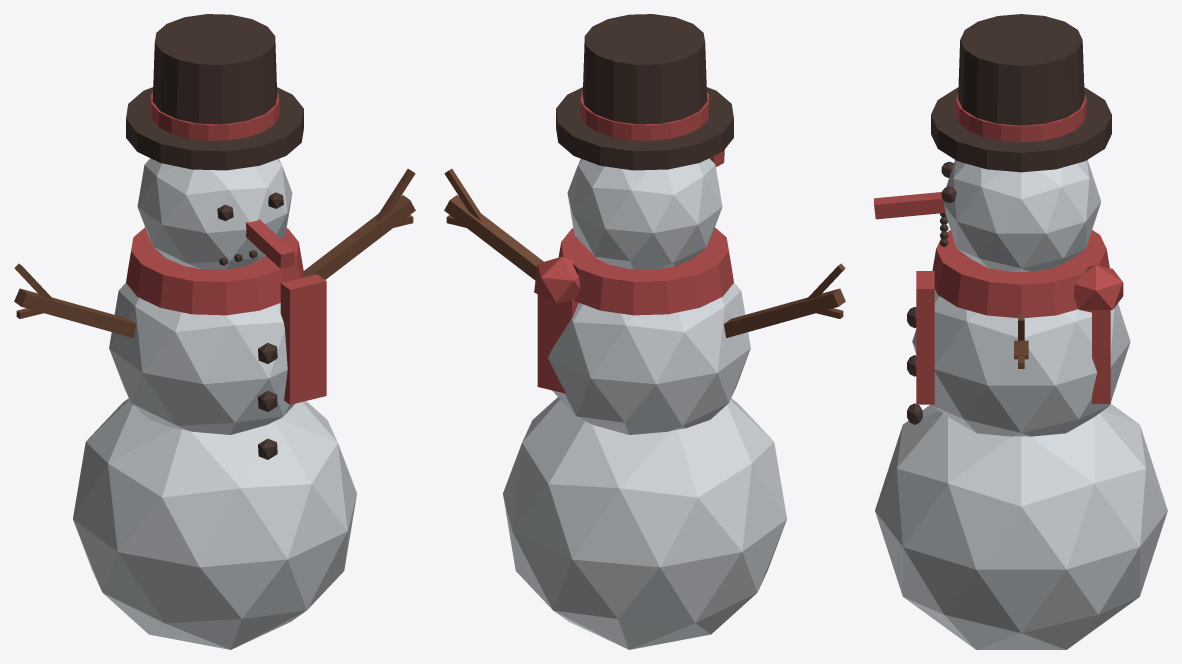
The model's file is Frosty_BigSnowman_Showcase.glb.
3 renders of one model, left to right at view 1: azimuth 30°, elevation 25°; view 2: azimuth 150°, elevation 25°; view 3: azimuth 270°, elevation 25°, orthographic.
Visible parts, largest first — view 1: Frosty_BigSnowman_Showcase; view 2: Frosty_BigSnowman_Showcase; view 3: Frosty_BigSnowman_Showcase.
Boxes of the visible parts, bbox=[...] form: Frosty_BigSnowman_Showcase: bbox=[14, 14, 415, 649]; Frosty_BigSnowman_Showcase: bbox=[444, 14, 845, 649]; Frosty_BigSnowman_Showcase: bbox=[874, 14, 1167, 649].
Size of the model in its own units: 1.74 by 2.5 by 1.1.
